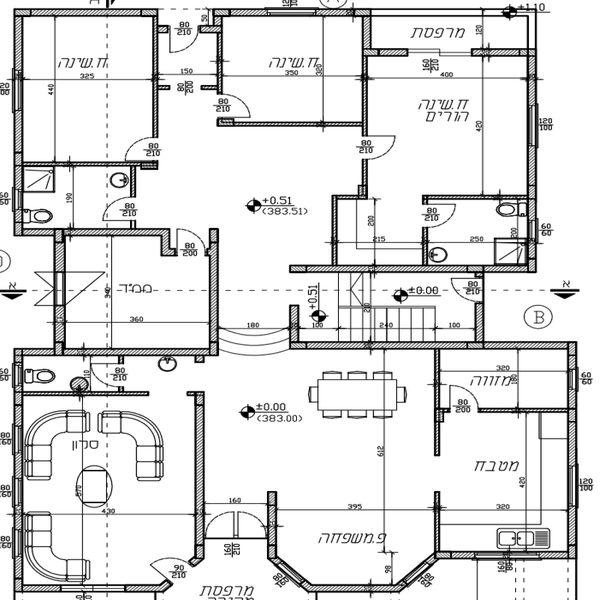door: (209, 507, 269, 551), (420, 202, 471, 238), (355, 129, 406, 162), (148, 549, 193, 586), (442, 381, 486, 414), (213, 87, 255, 120), (166, 21, 203, 57), (444, 276, 487, 305), (119, 137, 167, 162), (174, 224, 208, 257), (101, 192, 138, 222), (88, 362, 127, 389)
room: (267, 338, 438, 594), (428, 334, 579, 561), (126, 116, 373, 229), (360, 47, 539, 201), (13, 1, 164, 169), (51, 224, 223, 364), (208, 4, 366, 129), (284, 261, 484, 350), (324, 191, 538, 274), (206, 222, 297, 360), (14, 159, 140, 238)
wall: (290, 336, 577, 351), (26, 2, 160, 22), (23, 158, 165, 176), (192, 384, 205, 564), (287, 264, 539, 273), (9, 347, 214, 358), (147, 16, 164, 142), (207, 227, 221, 358), (212, 118, 361, 129), (26, 225, 172, 236), (419, 190, 527, 204), (12, 112, 30, 194), (478, 403, 566, 419), (312, 582, 406, 596), (327, 194, 345, 267), (17, 385, 159, 394), (361, 59, 377, 138), (471, 43, 539, 61), (426, 494, 446, 551), (566, 388, 580, 464), (11, 5, 27, 70), (526, 148, 539, 224), (50, 227, 71, 274), (433, 349, 442, 454), (425, 550, 477, 568), (564, 507, 581, 560), (211, 4, 267, 20), (264, 492, 277, 560), (359, 14, 377, 62), (525, 54, 541, 108), (317, 2, 374, 17), (213, 28, 226, 91), (358, 46, 409, 60), (124, 581, 168, 597), (19, 584, 65, 599), (359, 157, 374, 200), (56, 309, 69, 354), (13, 387, 27, 425), (419, 224, 433, 260), (15, 557, 27, 594), (540, 545, 573, 558), (11, 208, 24, 237), (12, 454, 24, 481), (11, 504, 20, 527)
window: (409, 45, 471, 61), (522, 105, 543, 146), (51, 271, 73, 305), (12, 74, 31, 112), (267, 4, 311, 20)
